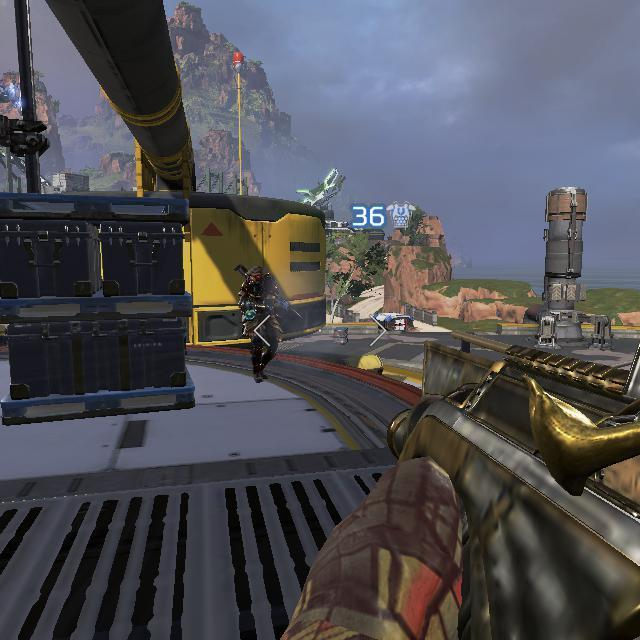avatar: (234, 262, 284, 383)
